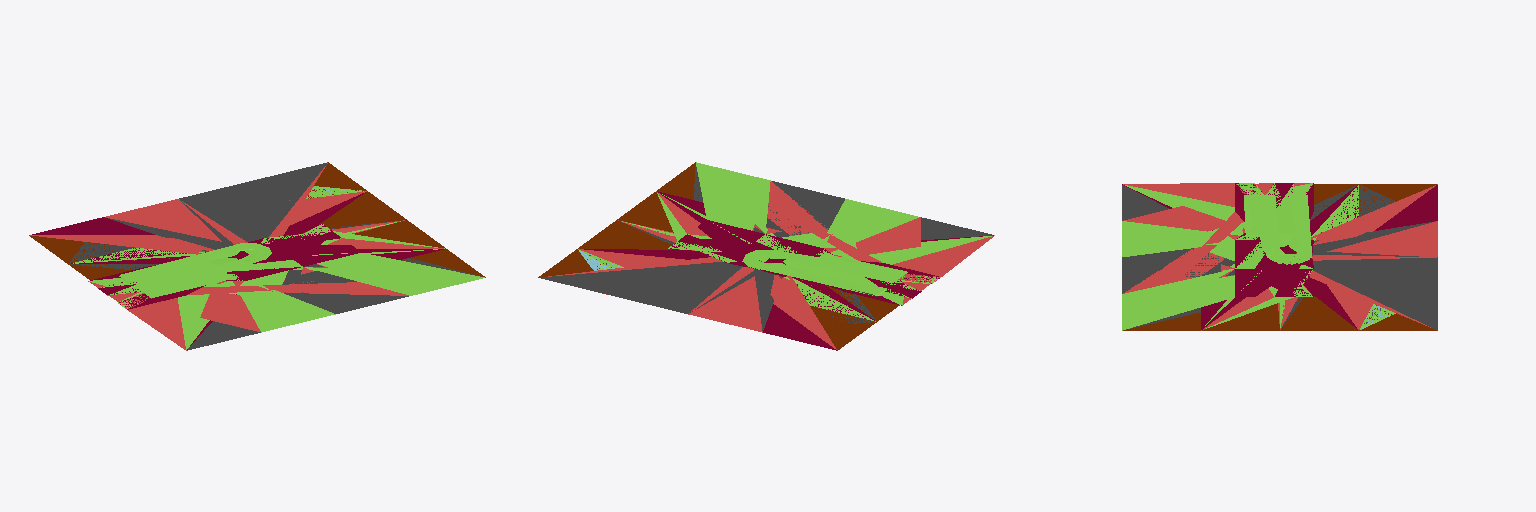
File: pillars.obj
3 views of the same model, side by side, from view 1: azimuth 30°, elevation 25°; view 2: azimuth 150°, elevation 25°; view 3: azimuth 270°, elevation 25° (orthographic).
Visible parts, largest first — view 1: OldColumn01_part_02, OldColumn01_part_01, StraightStair001, Cylinder003, Plane002; view 2: OldColumn01_part_02, OldColumn01_part_01, StraightStair001, Cylinder003, Plane002; view 3: OldColumn01_part_02, OldColumn01_part_01, StraightStair001, Cylinder003, Plane002.
Part boxes in pixels (bbox=[...]): OldColumn01_part_02: bbox=[73, 186, 484, 349]; OldColumn01_part_01: bbox=[30, 163, 443, 350]; StraightStair001: bbox=[69, 162, 481, 350]; Cylinder003: bbox=[32, 177, 443, 349]; Plane002: bbox=[29, 162, 485, 279]; OldColumn01_part_02: bbox=[578, 162, 994, 321]; OldColumn01_part_01: bbox=[548, 181, 993, 349]; StraightStair001: bbox=[540, 164, 992, 330]; Cylinder003: bbox=[584, 191, 993, 350]; Plane002: bbox=[538, 162, 899, 350]; OldColumn01_part_02: bbox=[1122, 183, 1395, 330]; OldColumn01_part_01: bbox=[1123, 183, 1437, 330]; StraightStair001: bbox=[1122, 185, 1437, 330]; Cylinder003: bbox=[1122, 183, 1437, 329]; Plane002: bbox=[1123, 184, 1436, 330].
Size of the model in its own units: 87.15 by 0.4724 by 78.74.